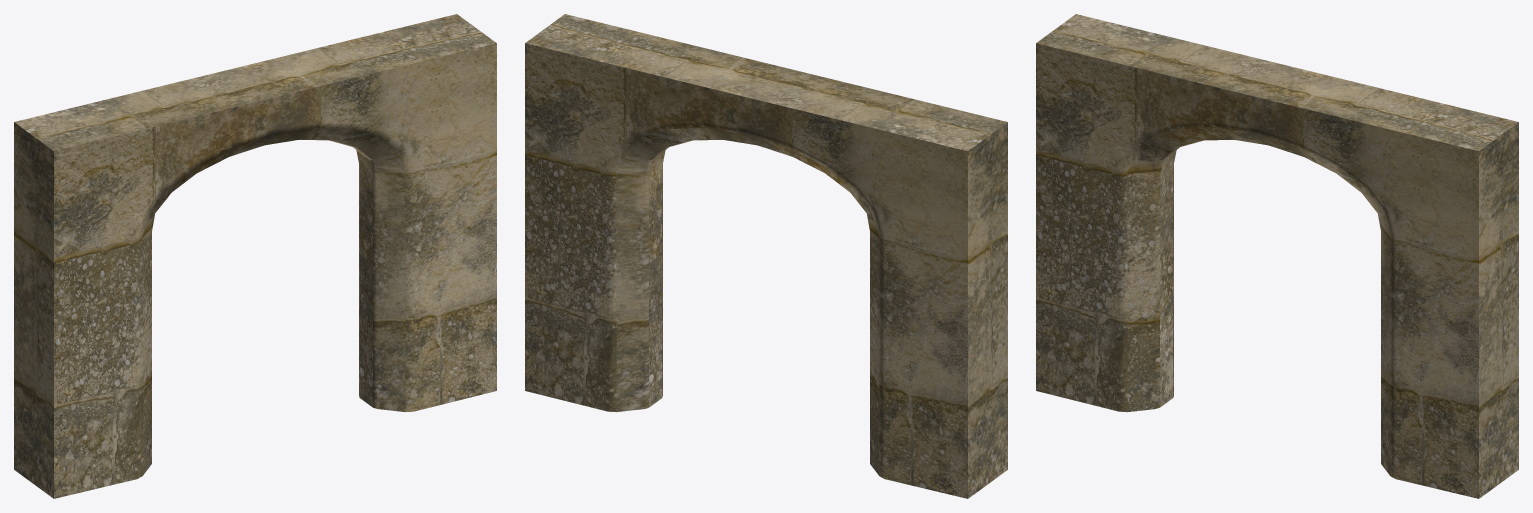
The model's file is DoorFrame.fbx.
3 views of the same model, side by side, from view 1: azimuth 30°, elevation 25°; view 2: azimuth 150°, elevation 25°; view 3: azimuth 330°, elevation 25° (orthographic).
Parts seen in each view (by area): view 1: DoorFrame; view 2: DoorFrame; view 3: DoorFrame.
Boxes of the visible parts, x1,y1,x2,y2 form: DoorFrame: (14,14,496,498); DoorFrame: (525,14,1007,498); DoorFrame: (1036,14,1518,498).
Size of the model in its own units: 4 by 3 by 0.6249.
